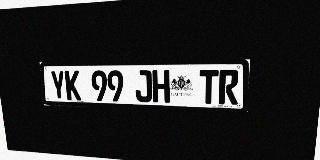9: (107, 70, 124, 102), (91, 70, 108, 101)
H: (152, 70, 170, 103)
J: (135, 70, 152, 102)
K: (64, 70, 81, 100)
R: (218, 70, 239, 105)
T: (199, 70, 219, 104)
Y: (50, 71, 66, 100)
